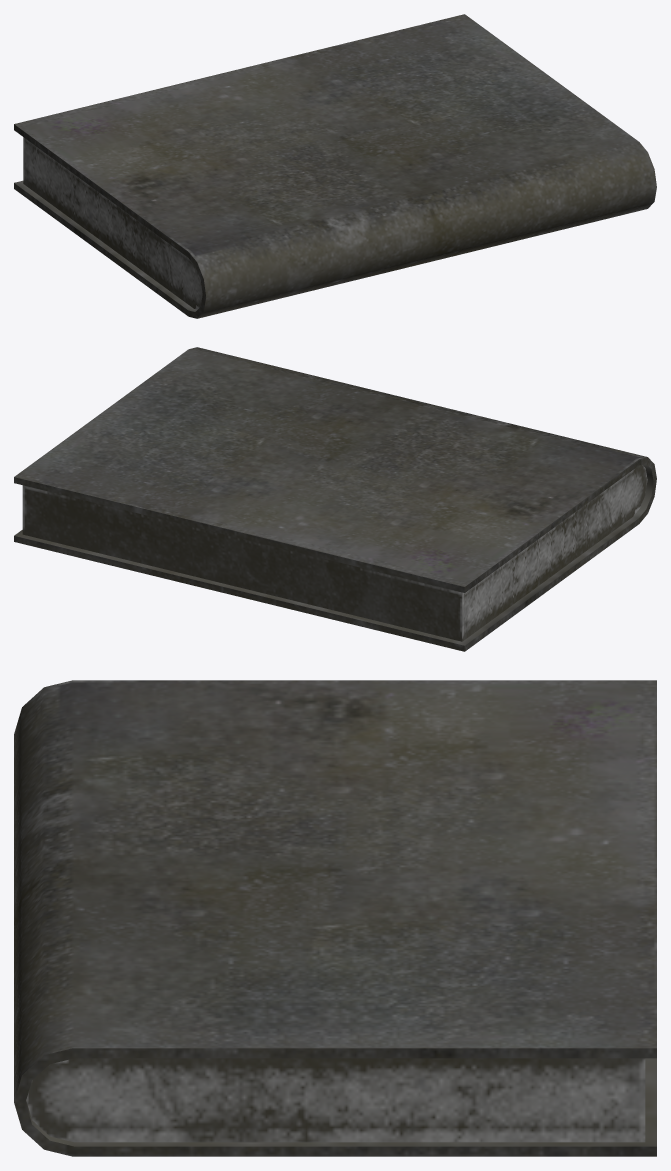
File: SM_Book_6.fbx
3 renders of one model, top to bottom at view 1: azimuth 30°, elevation 25°; view 2: azimuth 150°, elevation 25°; view 3: azimuth 270°, elevation 25°, orthographic. The views are drawn at different scales.
Parts seen in each view (by area): view 1: SM_Book_6_LOD0; view 2: SM_Book_6_LOD0; view 3: SM_Book_6_LOD0.
Part boxes in pixels (left/top/right/bottom): SM_Book_6_LOD0: left=14, top=14, right=656, bottom=318; SM_Book_6_LOD0: left=14, top=347, right=656, bottom=651; SM_Book_6_LOD0: left=14, top=680, right=656, bottom=1156.
Size of the model in its own units: 23.34 by 17.24 by 3.21.
1 material, 1 textured.
